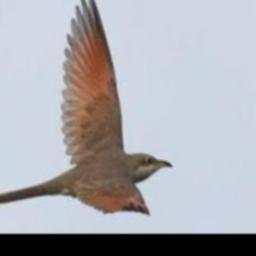Cuckoo: (0, 0, 173, 214)
